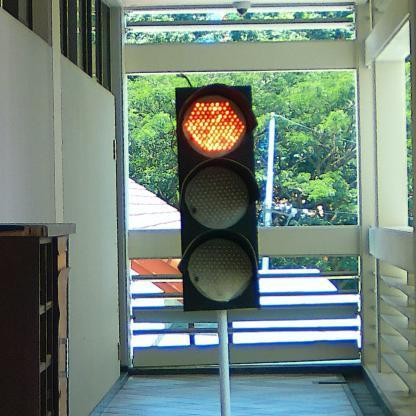red: (176, 87, 260, 310)
